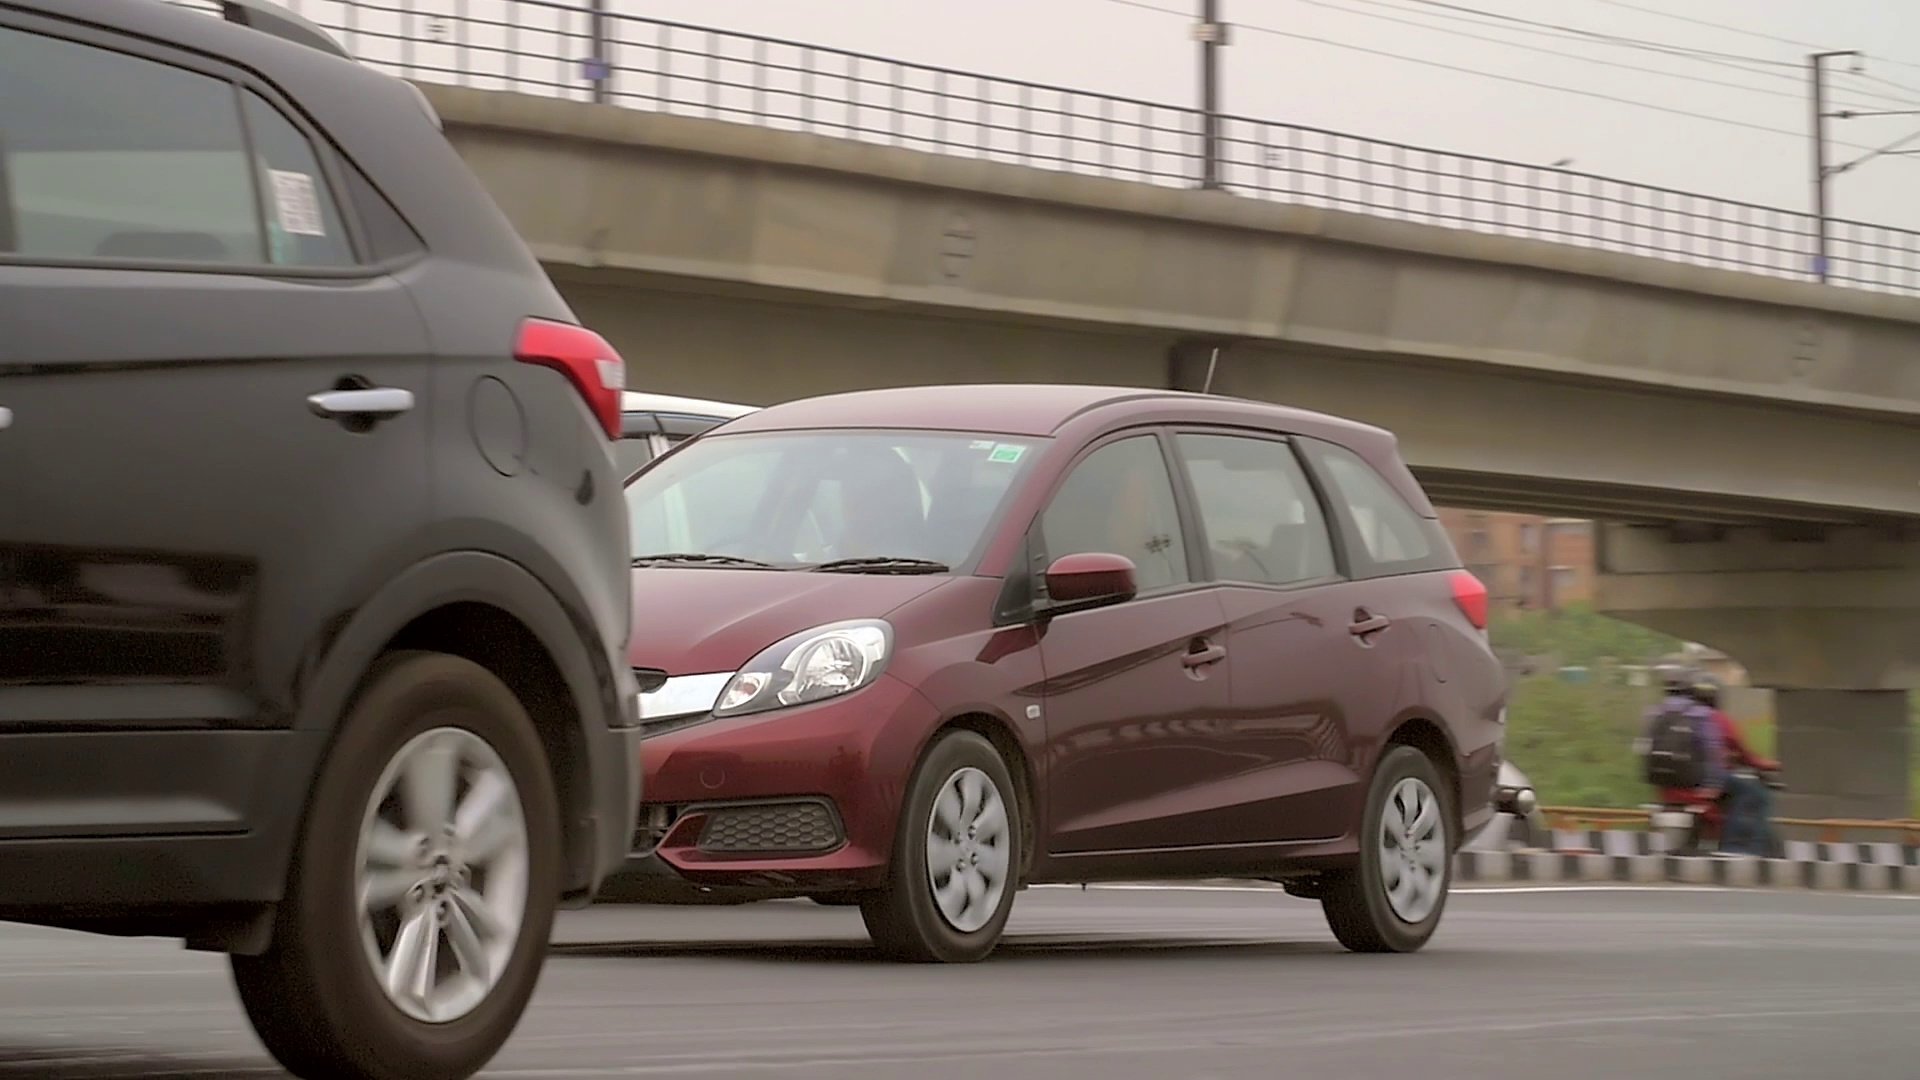car: (629, 342, 1542, 953)
